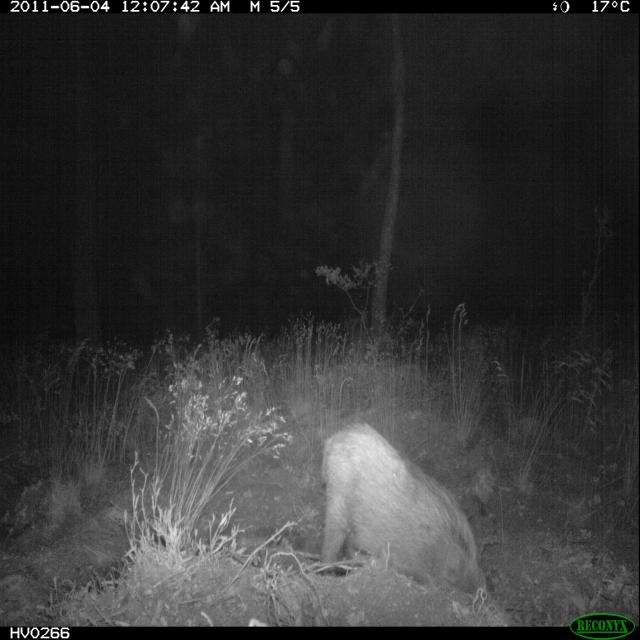boar: (291, 390, 504, 630)
